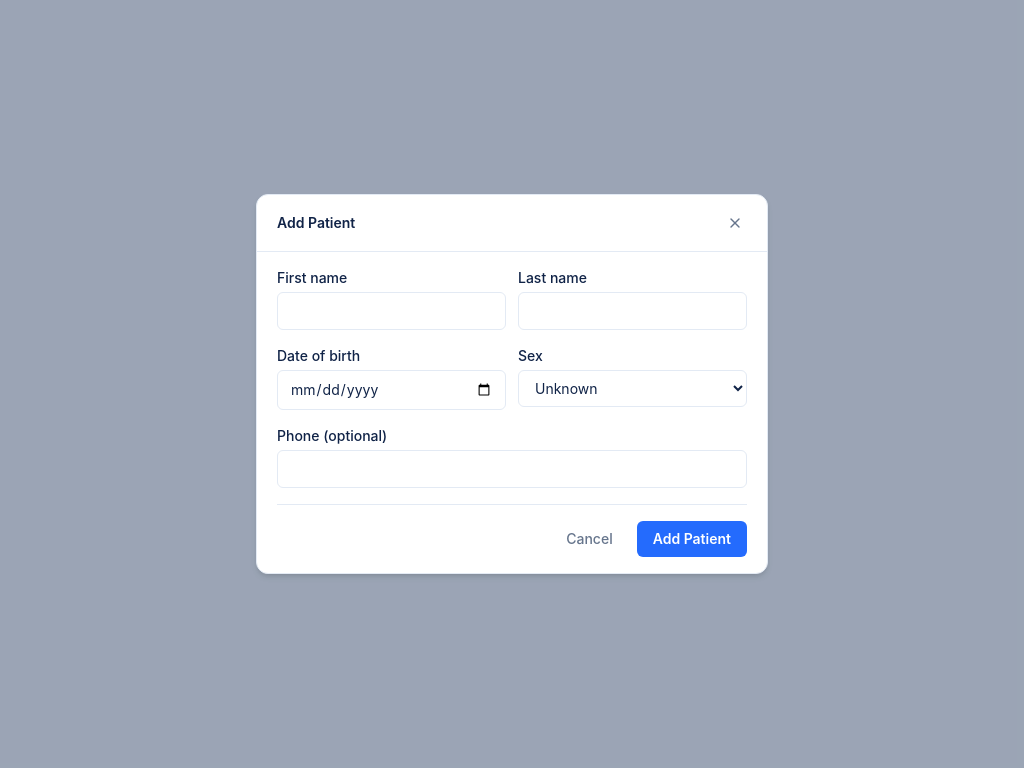
Scenario: AddPatientModal › shows the real backend error instead of silently failing
The width and height of the screenshot is (1024, 768).
Type "Jane" into the field labelled "First name". click: (392, 311)
box: [277,292,506,330]
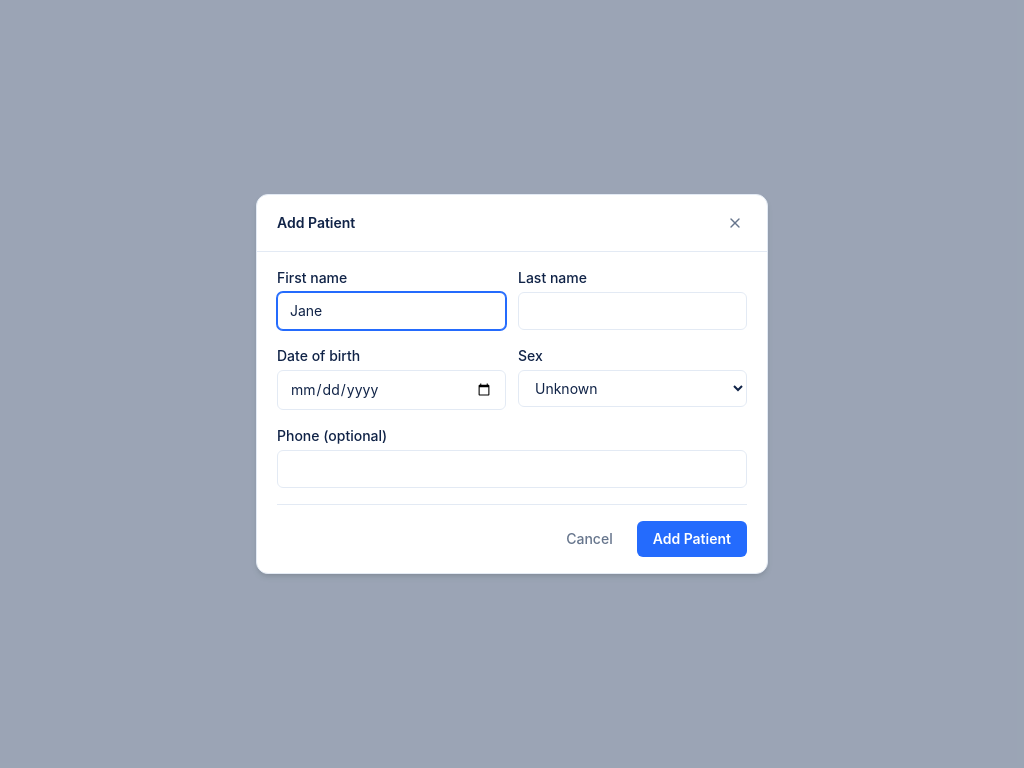
Type "Doe" into the field labelled "Last name". click: (632, 311)
box: [518,292,747,330]
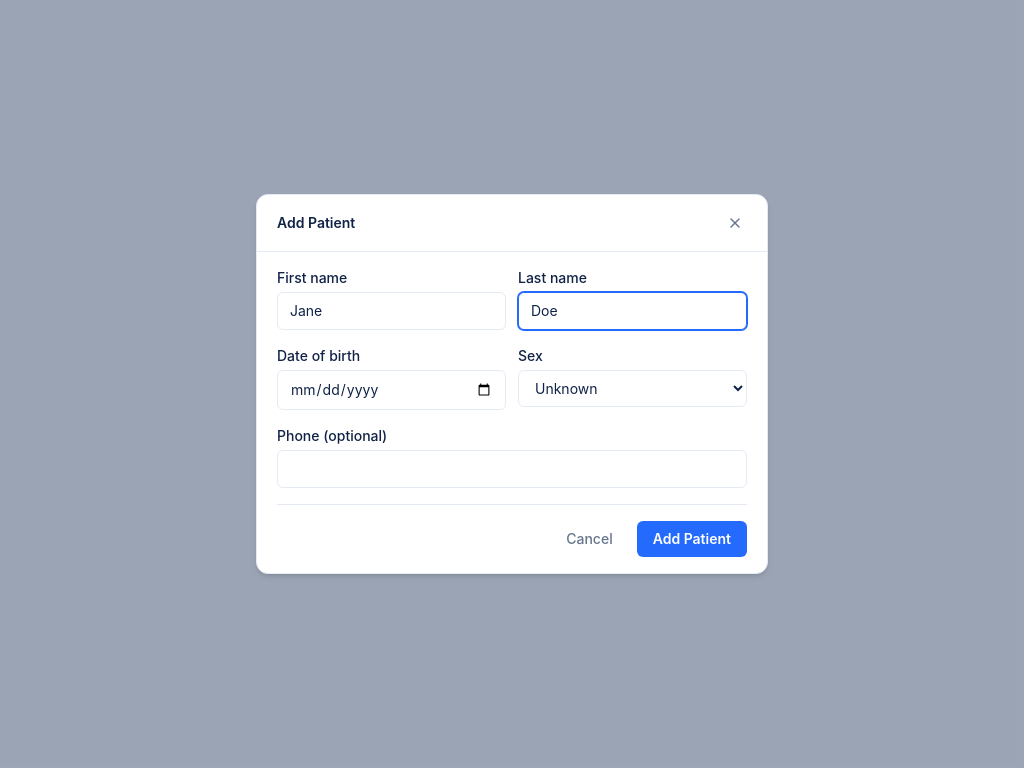
Type "1990-01-01" into the date field labelled "Date of birth". click: (392, 390)
box: [277,370,506,410]
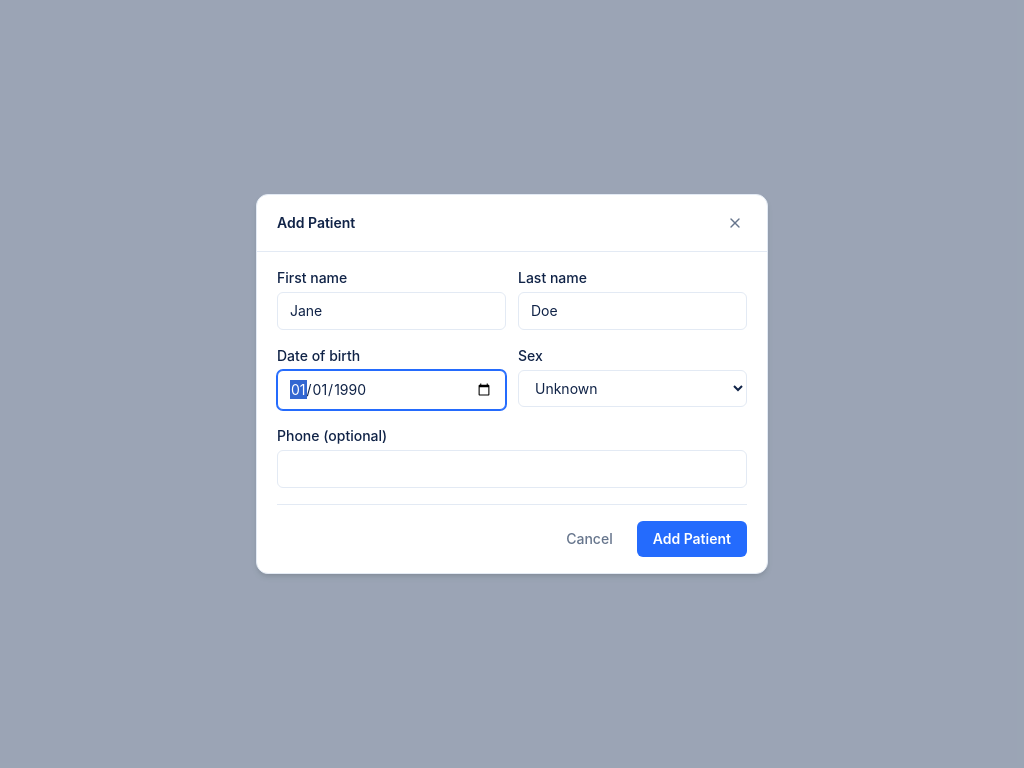
Click the button "Add Patient". click: (692, 539)
box: [637,521,747,557]
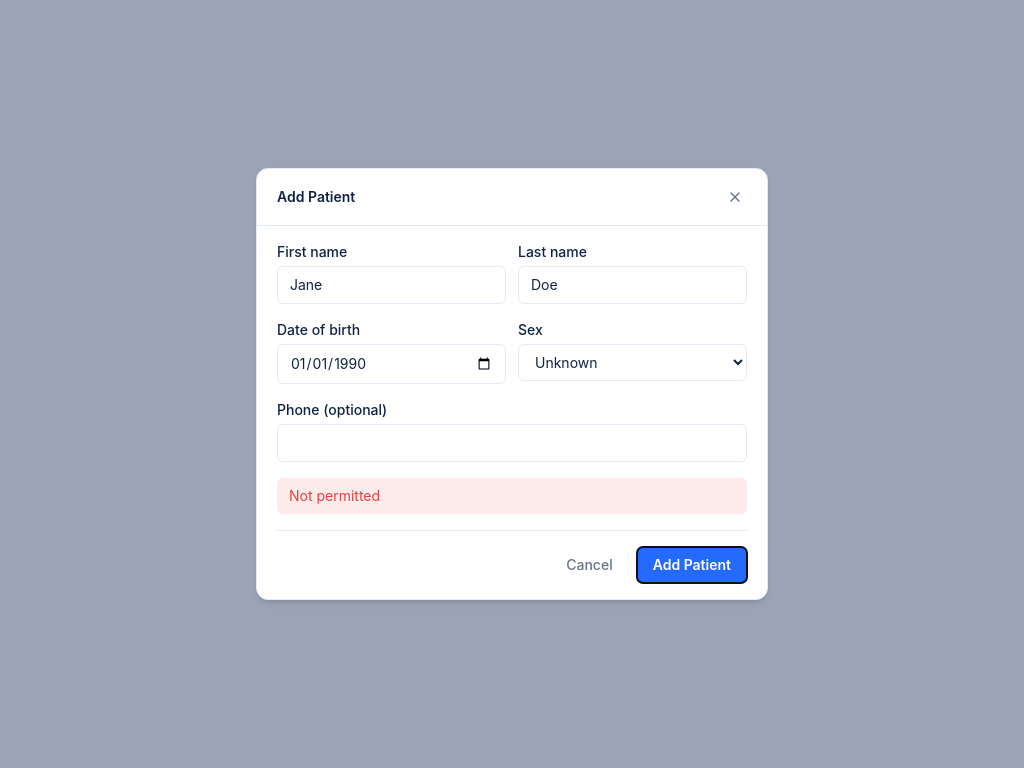
Check: the message reads "Not permitted", box [289,487,380,504]
